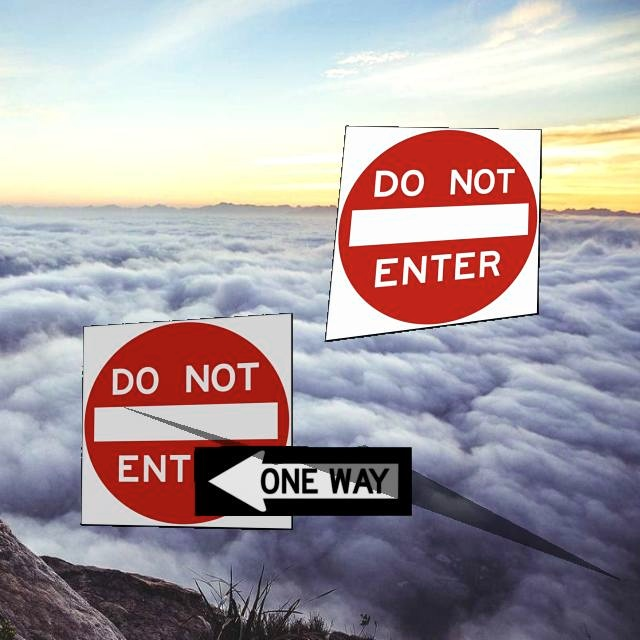DO_NOT_ENTER: (324, 125, 542, 342), (80, 312, 293, 530)
ONE_WAY_ left: (194, 446, 412, 516)
